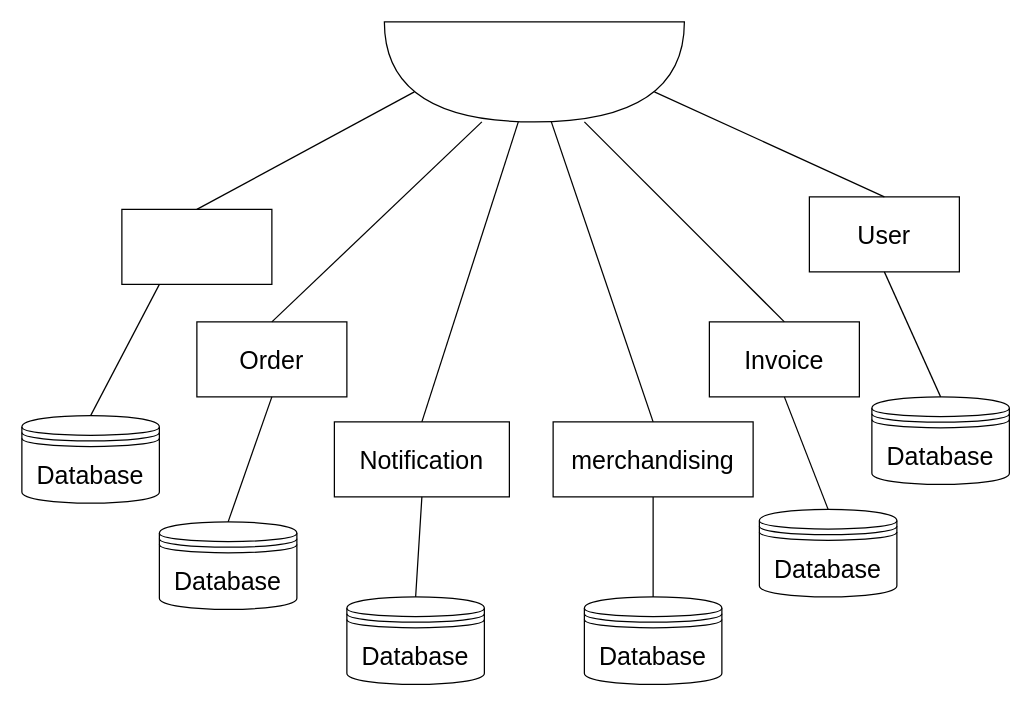
The diagram is 1031 pixels wide and 706 high, and some of its shapes have lost their labels. The shapes that lost their labels are listed below. From the top down, each one's centre as x and y in pixels, then its label:
At (533,71): "API Gateway".
At (196,246): "Catalog".
